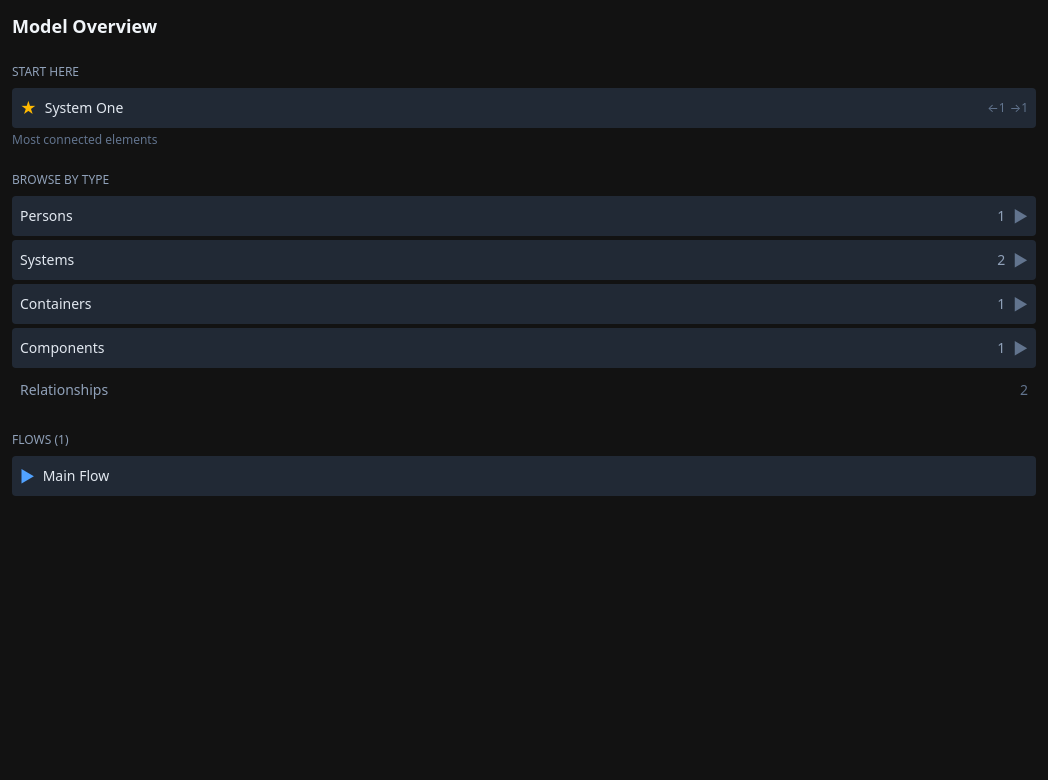
Test: StartHere › should show elements when type is expanded
What coordinates should you click on to do the following:
click the button "persons 1 ▶"
I would click on:
 (46, 216)
Its box is x1=12 y1=196 x2=1036 y2=236.
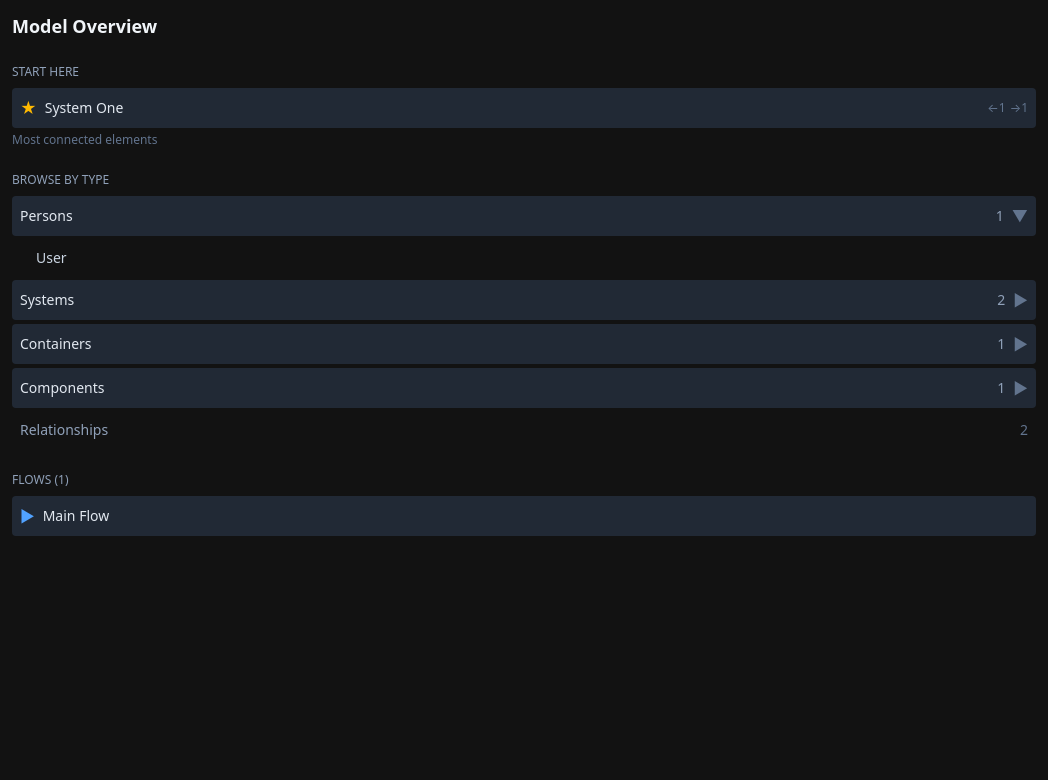
expect the button "User" is shown: met, box x1=28 y1=240 x2=1036 y2=276
